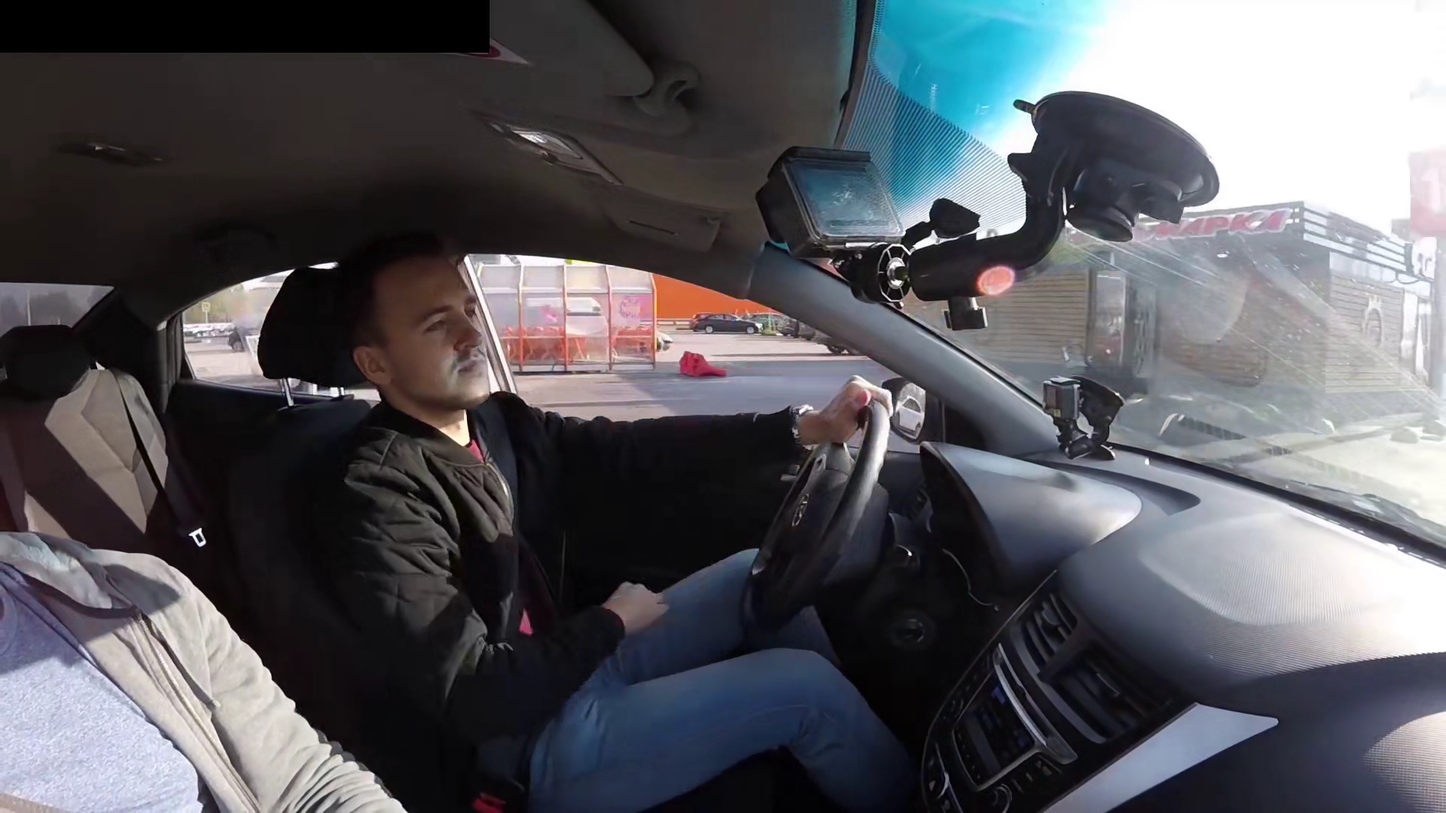car: (990, 78, 1256, 227)
